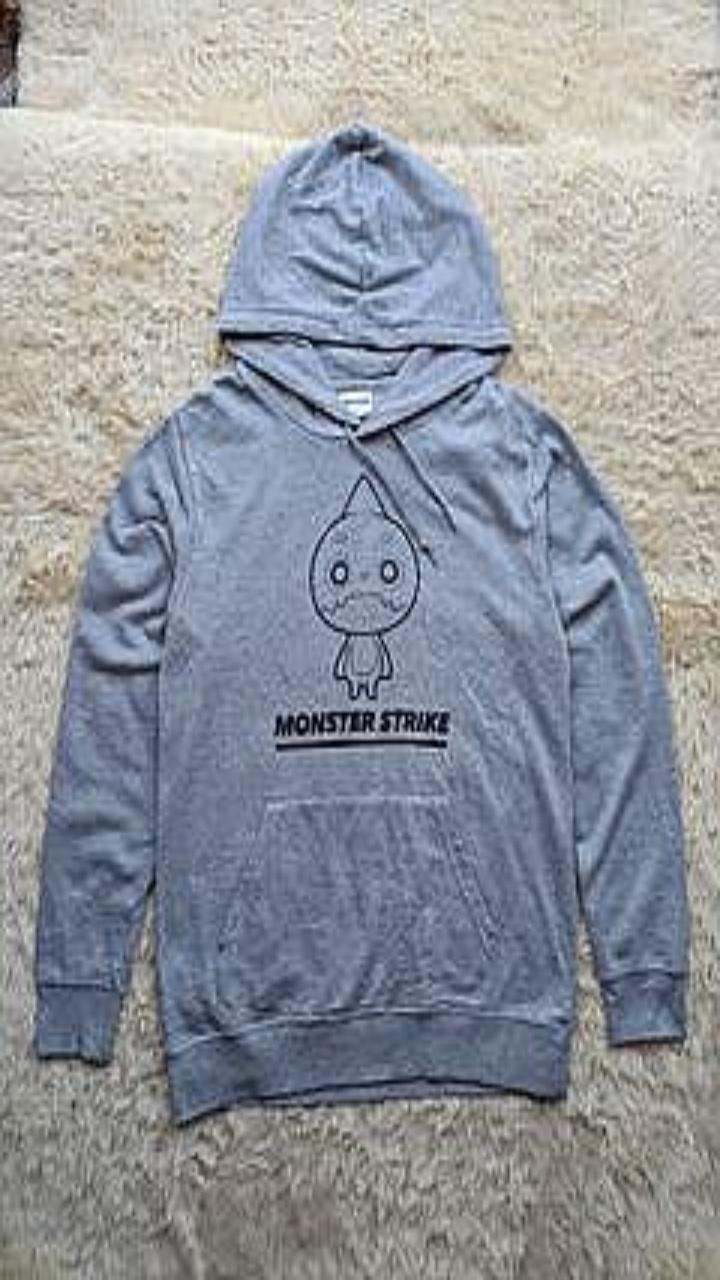Hoodie: (35, 122, 688, 1122)
